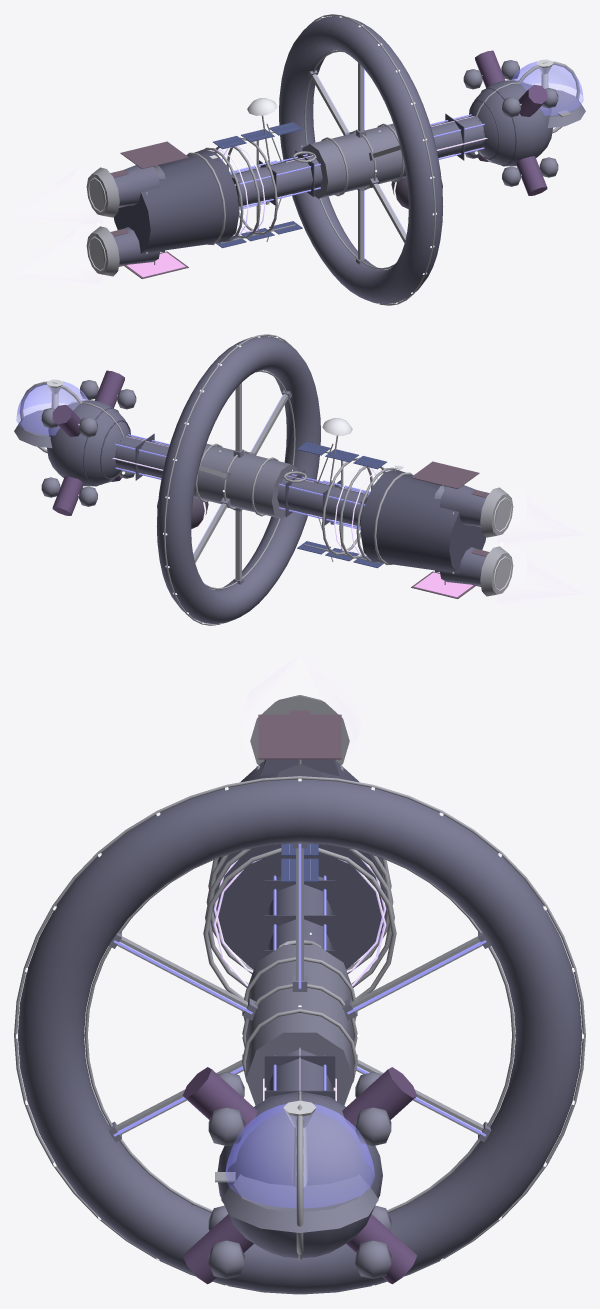
File: RSV_Tessera.glb
3 views of the same model, one above another, from view 1: azimuth 30°, elevation 25°; view 2: azimuth 150°, elevation 25°; view 3: azimuth 270°, elevation 25° (orthographic). The views are drawn at different scales.
Parts seen in each view (by area): view 1: RSV_Tessera; view 2: RSV_Tessera; view 3: RSV_Tessera.
Boxes of the visible parts, x1,y1,x2,y2 form: RSV_Tessera: [81, 14, 585, 305]; RSV_Tessera: [14, 334, 518, 625]; RSV_Tessera: [14, 695, 585, 1294].
Size of the model in its own units: 30.2 by 13.78 by 13.78.
